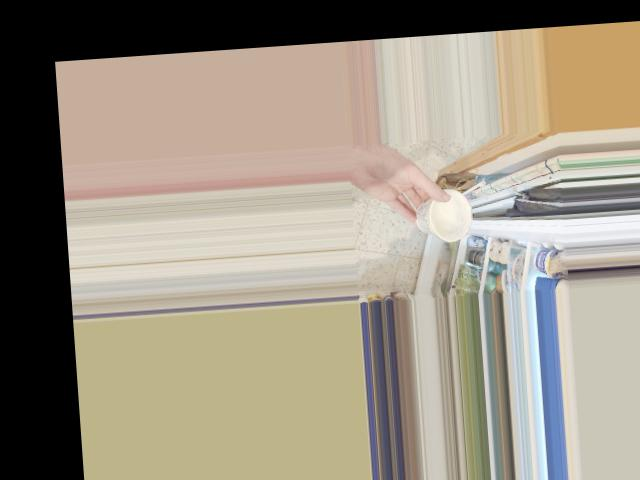cotage: (411, 194, 479, 236)
